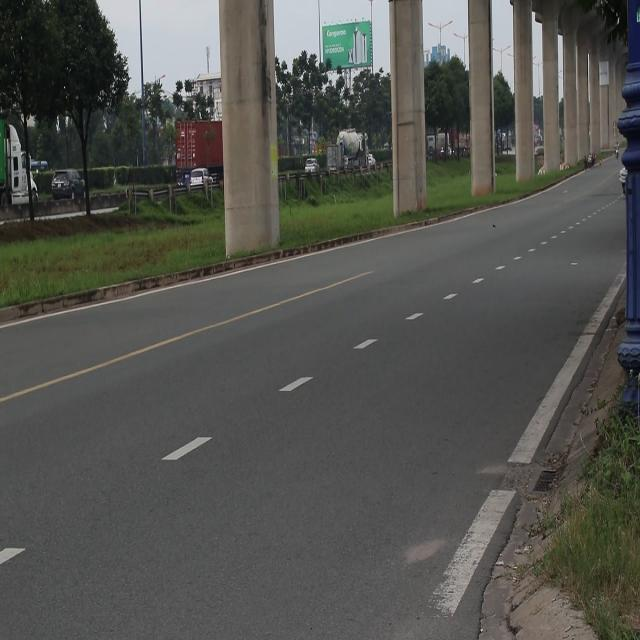car: (50, 172, 85, 201), (190, 167, 220, 188), (305, 151, 321, 182), (32, 160, 51, 172)
motorbike: (619, 174, 628, 204)
truck: (168, 118, 221, 180), (1, 120, 38, 202), (325, 144, 346, 185)
